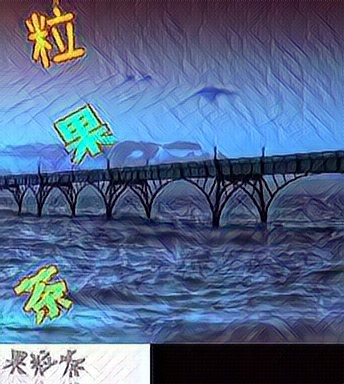B2E8: (13, 264, 75, 328)
B9FB: (54, 100, 116, 164)
C1A3: (24, 6, 86, 70)
